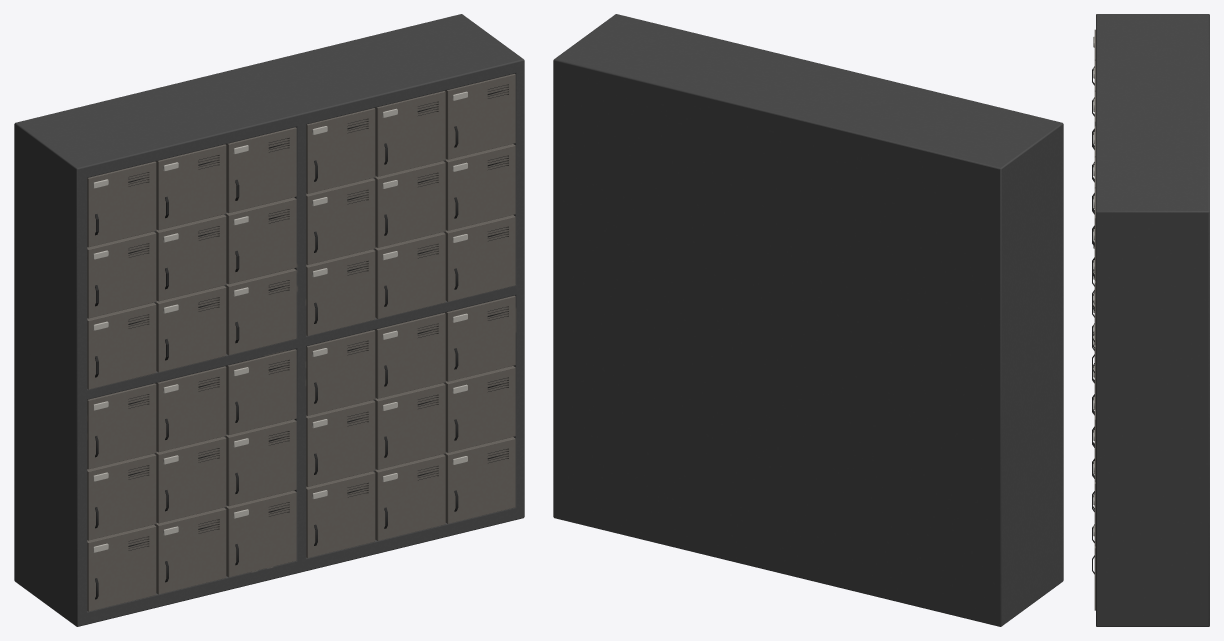
The model's file is SchoolLocker.fbx.
3 views of the same model, side by side, from view 1: azimuth 30°, elevation 25°; view 2: azimuth 150°, elevation 25°; view 3: azimuth 270°, elevation 25° (orthographic). The views are drawn at different scales.
Parts seen in each view (by area): view 1: Plane.038, Plane.045, Plane.046, Plane.044, Plane.043, Plane.041, Plane.042; view 2: Plane.038; view 3: Plane.038, Plane.044, Plane.046, Plane.043.
Boxes of the visible parts, x1,y1,x2,y2 form: Plane.038: [14, 14, 524, 626]; Plane.045: [87, 349, 296, 611]; Plane.046: [306, 295, 515, 558]; Plane.044: [306, 74, 515, 336]; Plane.043: [87, 127, 296, 389]; Plane.041: [128, 155, 225, 550]; Plane.042: [347, 102, 444, 497]; Plane.038: [553, 14, 1063, 626]; Plane.038: [1096, 14, 1209, 626]; Plane.044: [1092, 126, 1095, 409]; Plane.046: [1092, 335, 1095, 610]; Plane.043: [1092, 29, 1095, 275].
Bounding box in the file's own units: 203 × 199 × 51.16.
Materials: 2 (1 with a texture image).
